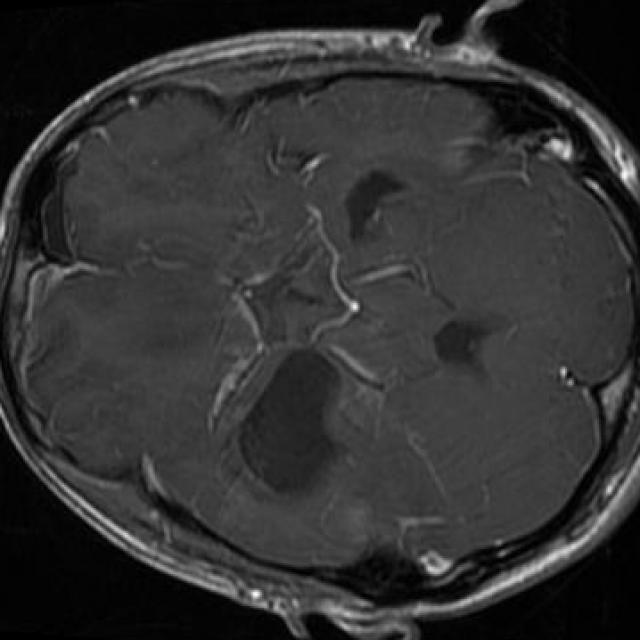glioma: (239, 351, 339, 497)
